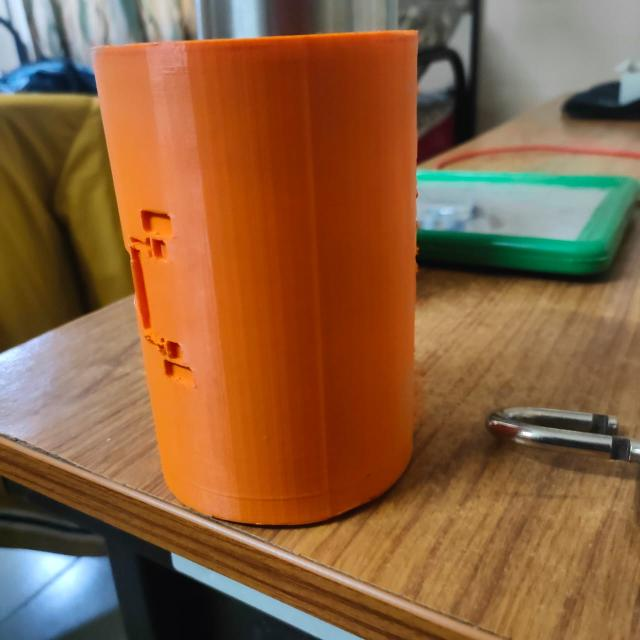Cylinder: (90, 28, 420, 526)
